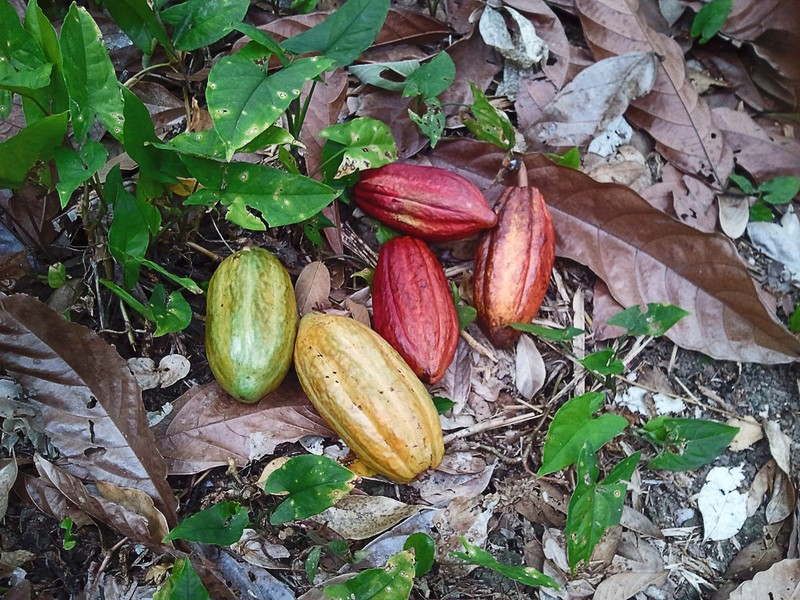Cacaopod: (294, 312, 446, 483), (206, 241, 299, 403), (471, 187, 557, 350), (343, 163, 497, 243)
